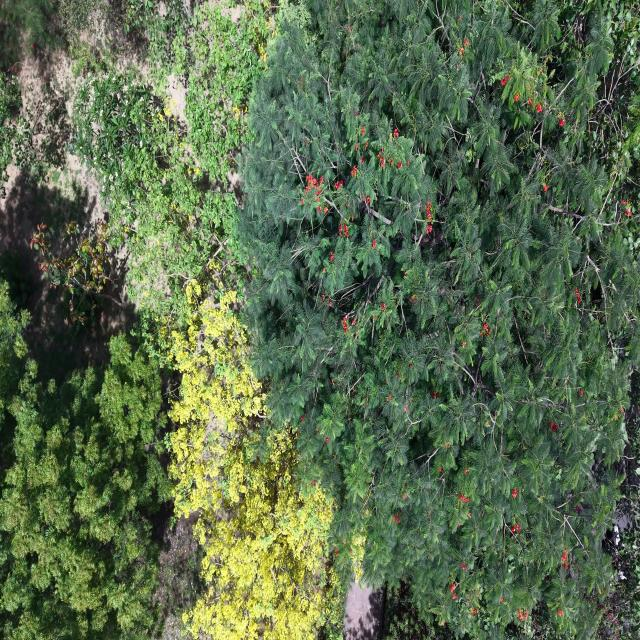DRY_AREA: (0, 49, 135, 383), (0, 50, 133, 382), (344, 582, 385, 639)
VEGETATION_TREE: (0, 0, 639, 639), (238, 0, 639, 637), (32, 3, 344, 639), (74, 3, 344, 639), (73, 2, 268, 352), (0, 252, 170, 638), (168, 286, 343, 639), (0, 283, 170, 638), (0, 335, 170, 638), (74, 70, 226, 330), (185, 430, 343, 639), (172, 0, 270, 242), (168, 285, 265, 519), (52, 0, 196, 79), (600, 373, 639, 639), (0, 51, 69, 198), (31, 221, 121, 324), (57, 0, 186, 63), (106, 0, 198, 82), (601, 475, 639, 639), (0, 280, 29, 490), (0, 281, 29, 429), (0, 74, 32, 197), (0, 0, 54, 71), (383, 584, 452, 639), (58, 0, 105, 42), (0, 250, 33, 309)
